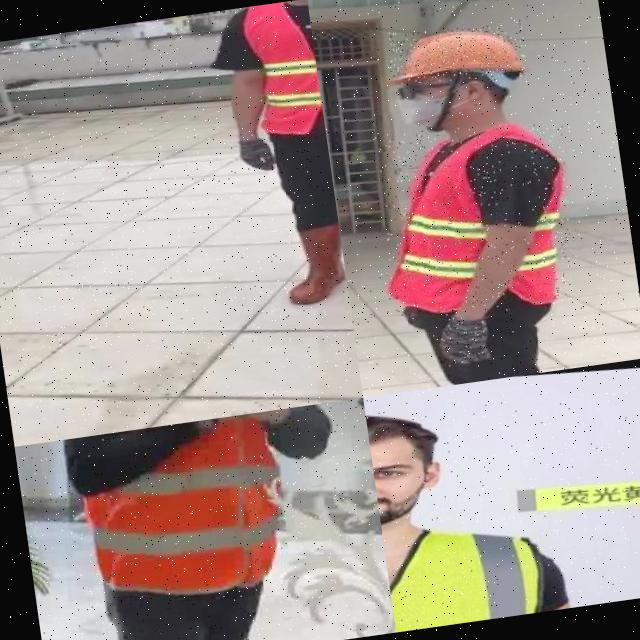boots: (276, 220, 350, 310)
helmet: (384, 14, 529, 94)
vest: (58, 406, 329, 620), (363, 106, 589, 332), (380, 496, 554, 632), (229, 0, 327, 150)
